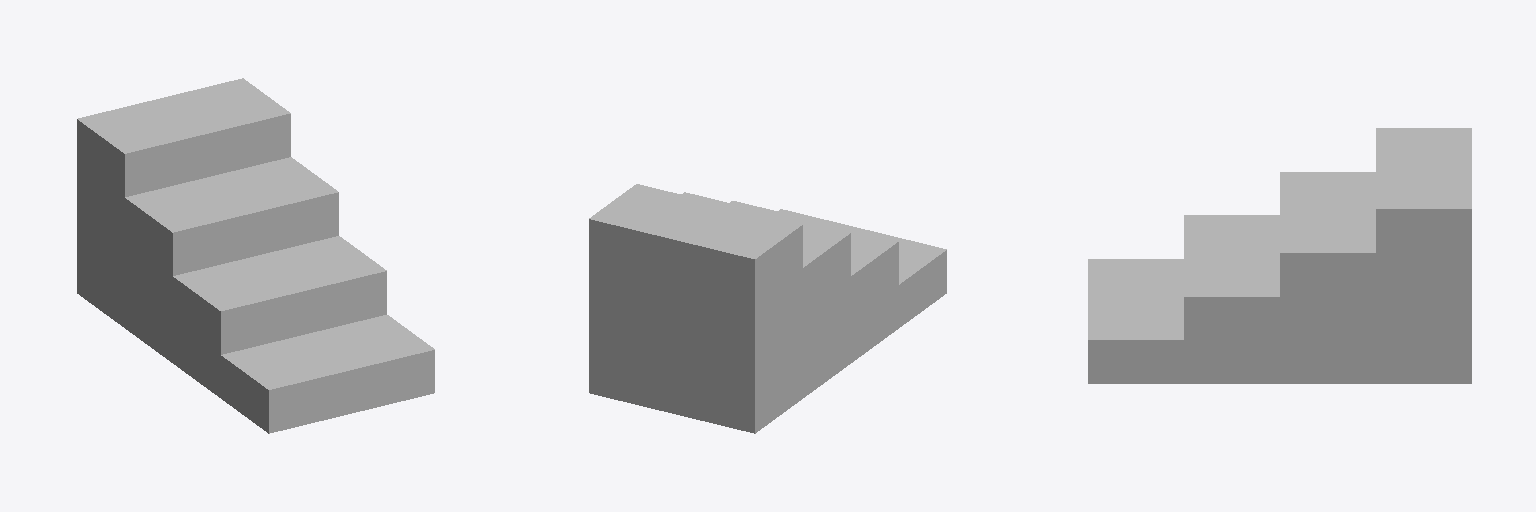
File: staircase-1-to-2.obj
3 renders of one model, left to right at view 1: azimuth 30°, elevation 25°; view 2: azimuth 150°, elevation 25°; view 3: azimuth 270°, elevation 25°, orthographic.
Visible parts, largest first — view 1: staircase-1-to-2_Cube.003; view 2: staircase-1-to-2_Cube.003; view 3: staircase-1-to-2_Cube.003.
Part boxes in pixels (bbox=[...]): staircase-1-to-2_Cube.003: bbox=[77, 78, 434, 433]; staircase-1-to-2_Cube.003: bbox=[589, 184, 946, 433]; staircase-1-to-2_Cube.003: bbox=[1088, 128, 1471, 383].
Bounding box in the file's own units: 2 × 2 × 4.